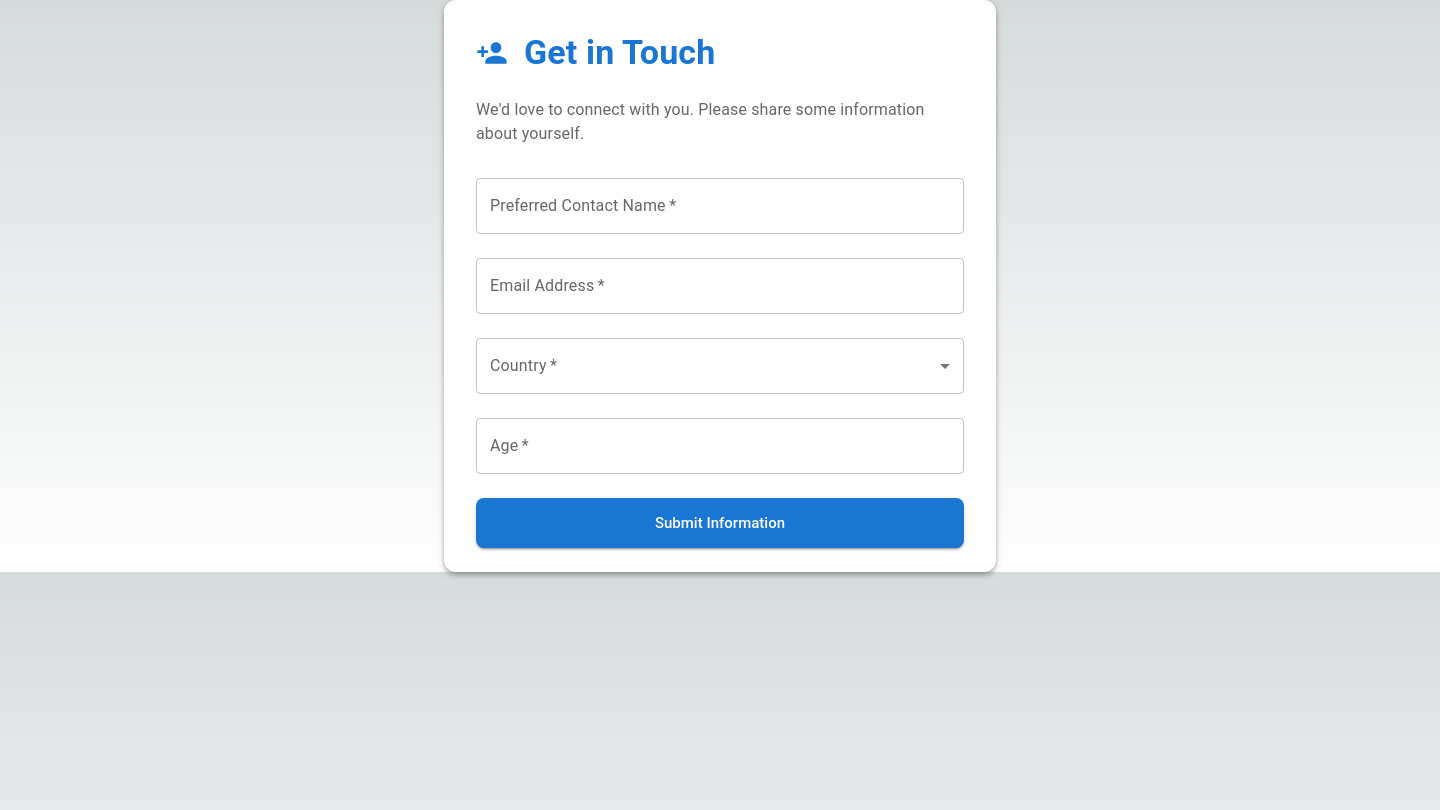
Test: VisitorForm › disables submit button while submitting
In the field labelled "Preferred Contact Name *": (720, 206) [476,178,964,234], type "John Doe"
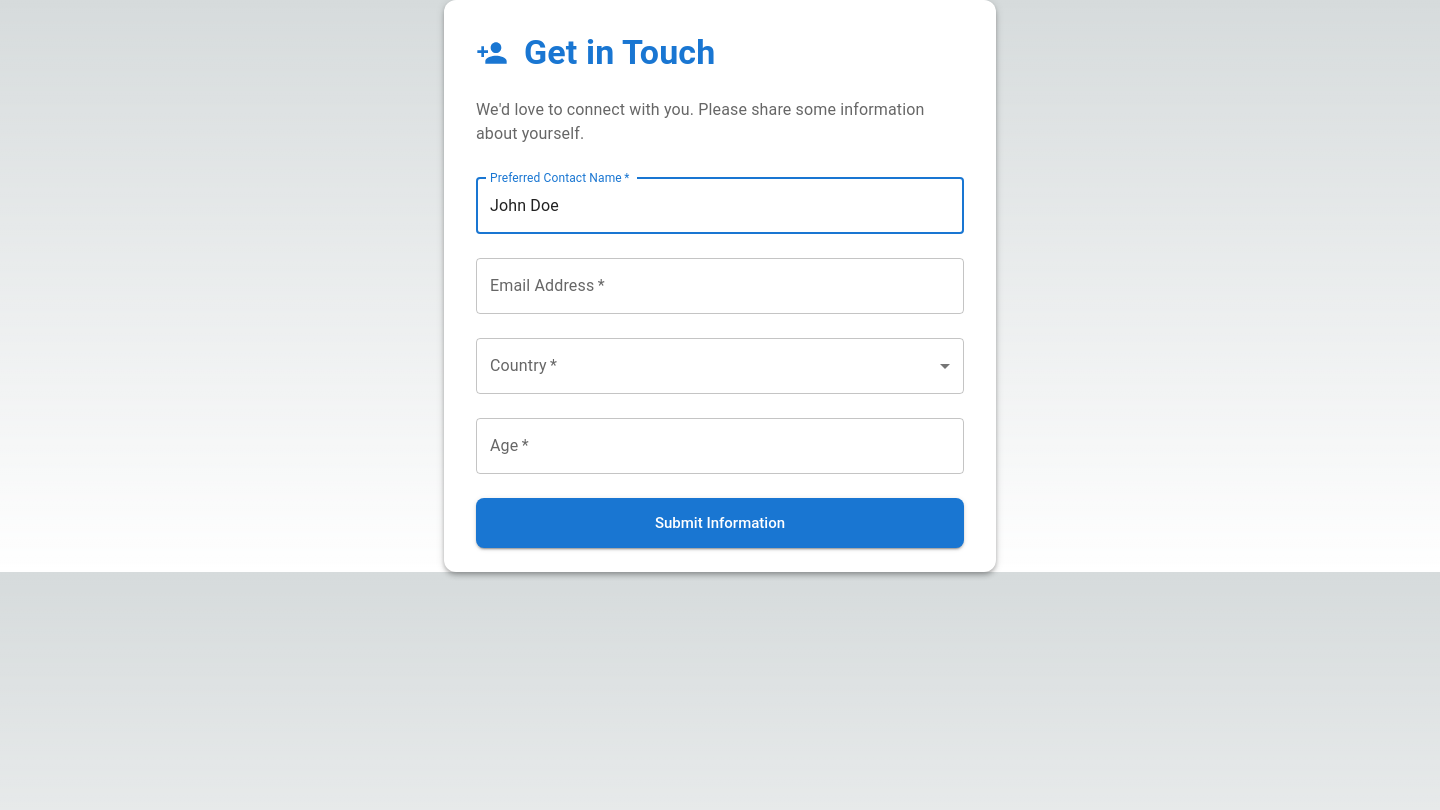
In the field labelled "Email Address *": (720, 286) [476,258,964,314], type "john@example.com"
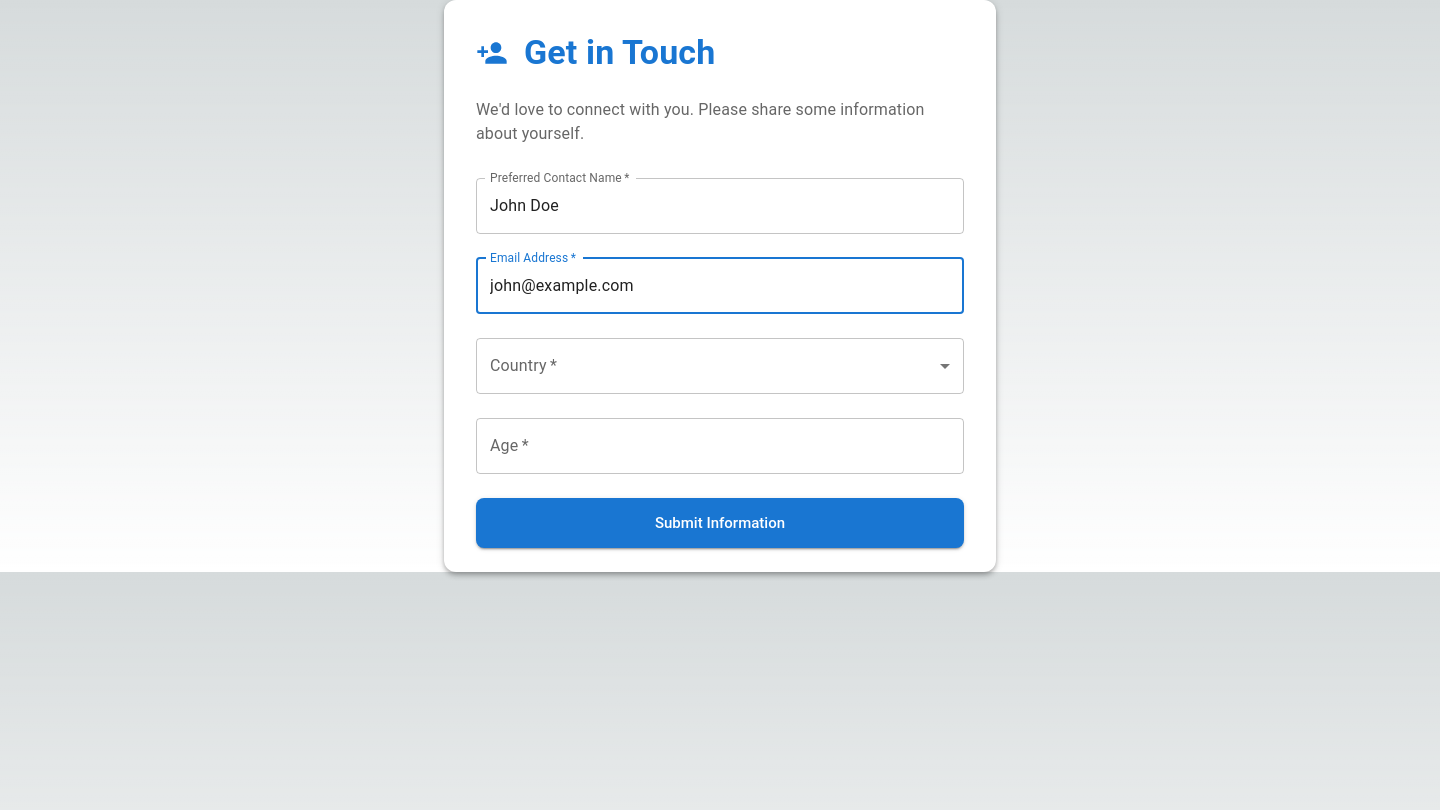
Click the dropdown named "country": (720, 366) [476,338,964,394]
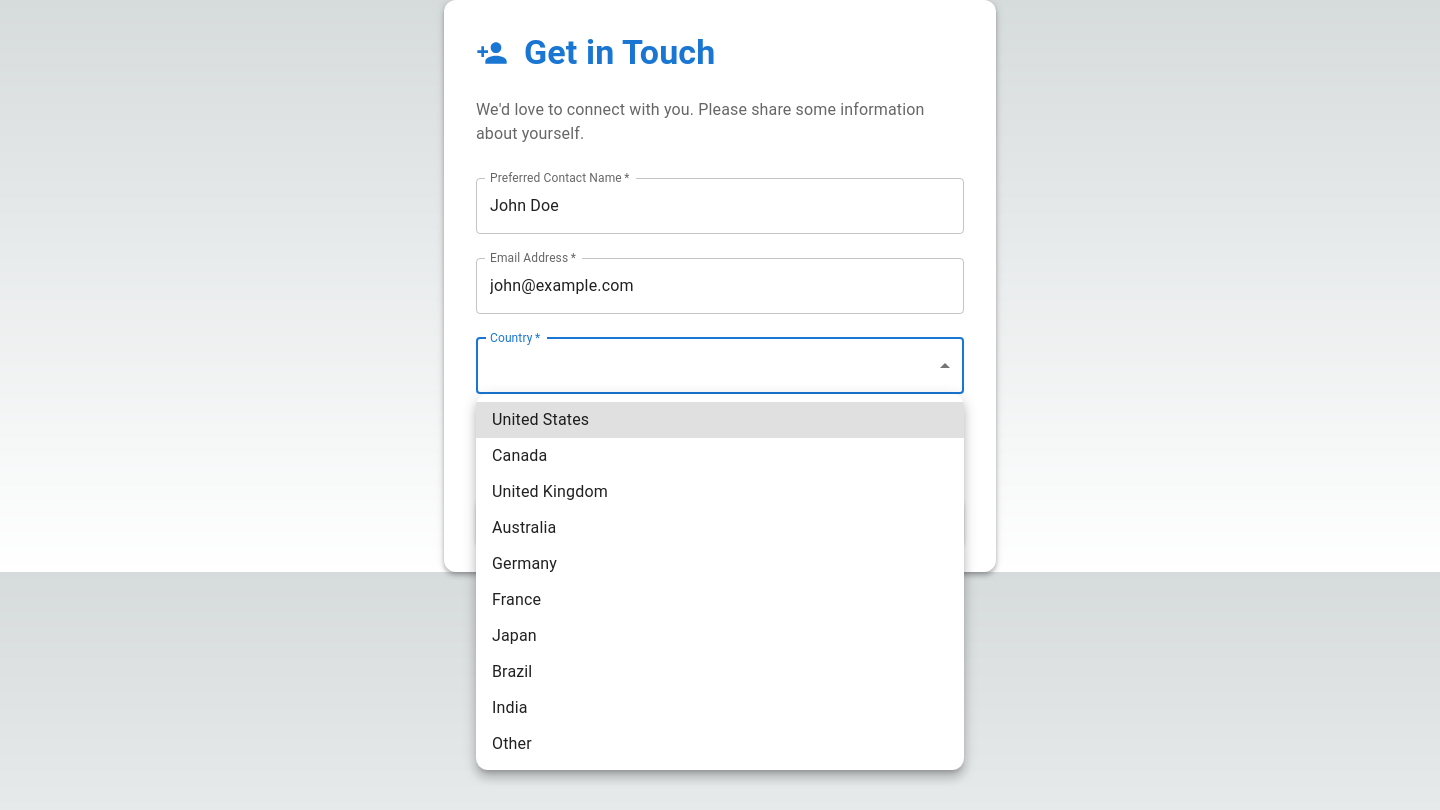
Click the option "United States": (541, 420) [476,402,964,438]
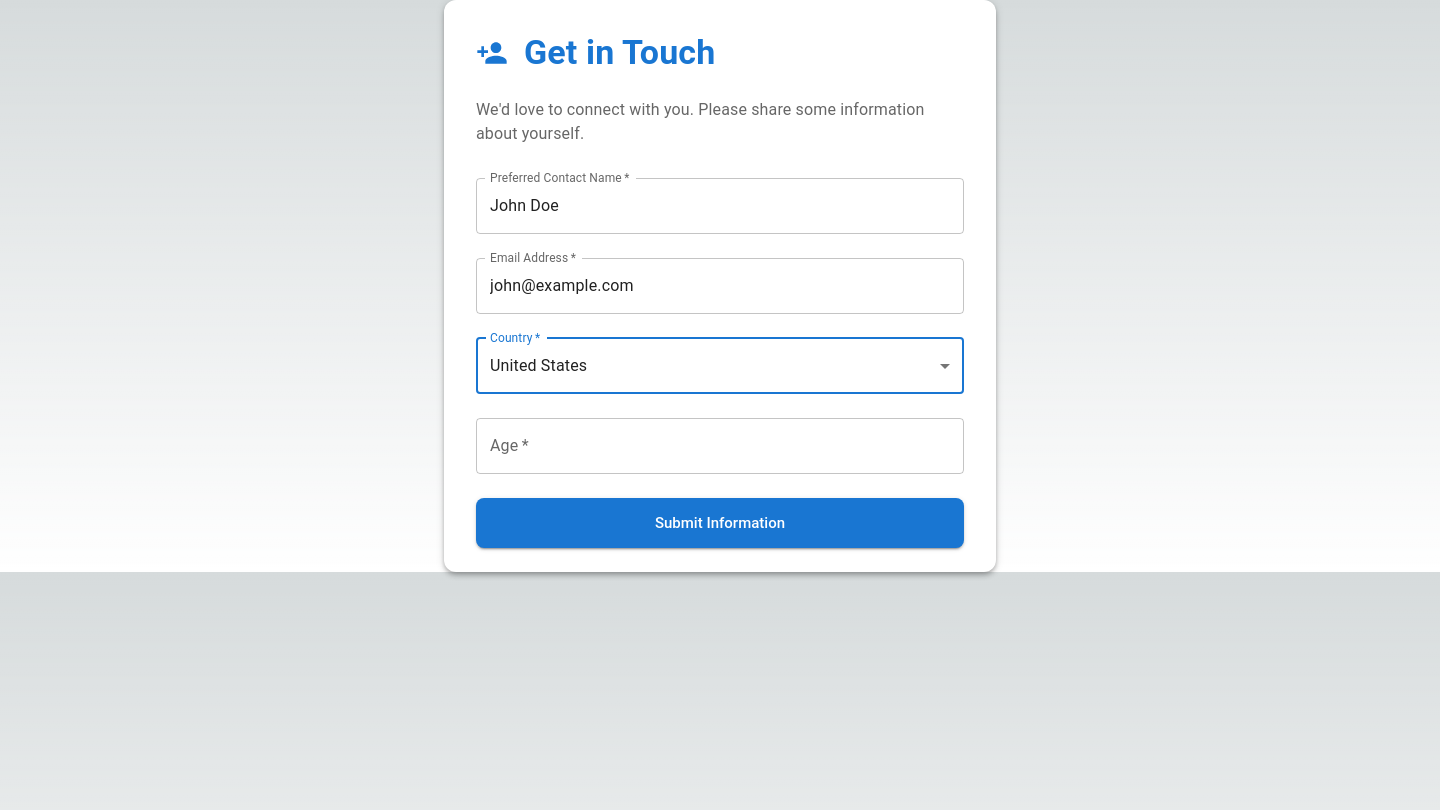
In the number field labelled "Age *": (720, 446) [476,418,964,474], type "30"
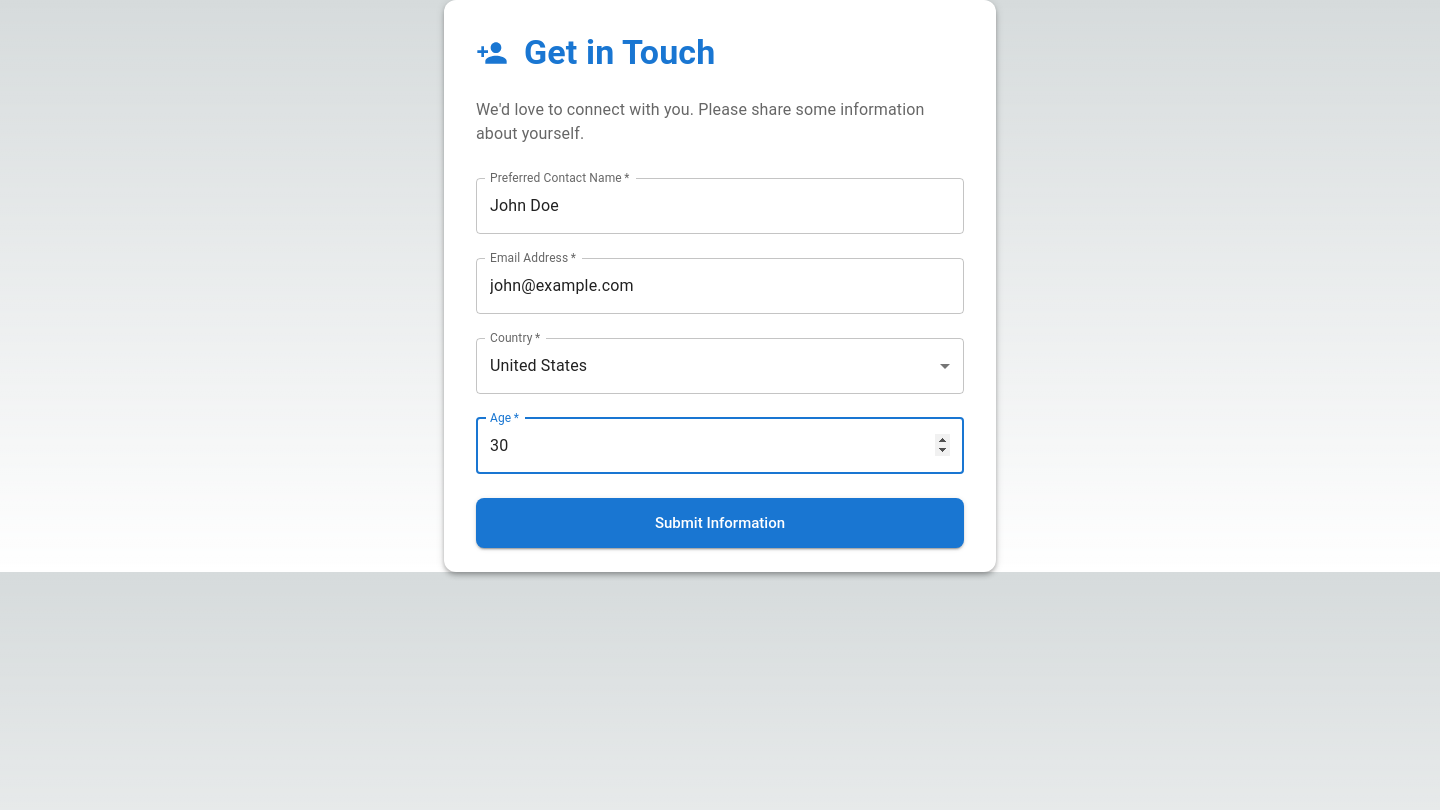
Click the button "Submit Information": (720, 523) [476,498,964,548]
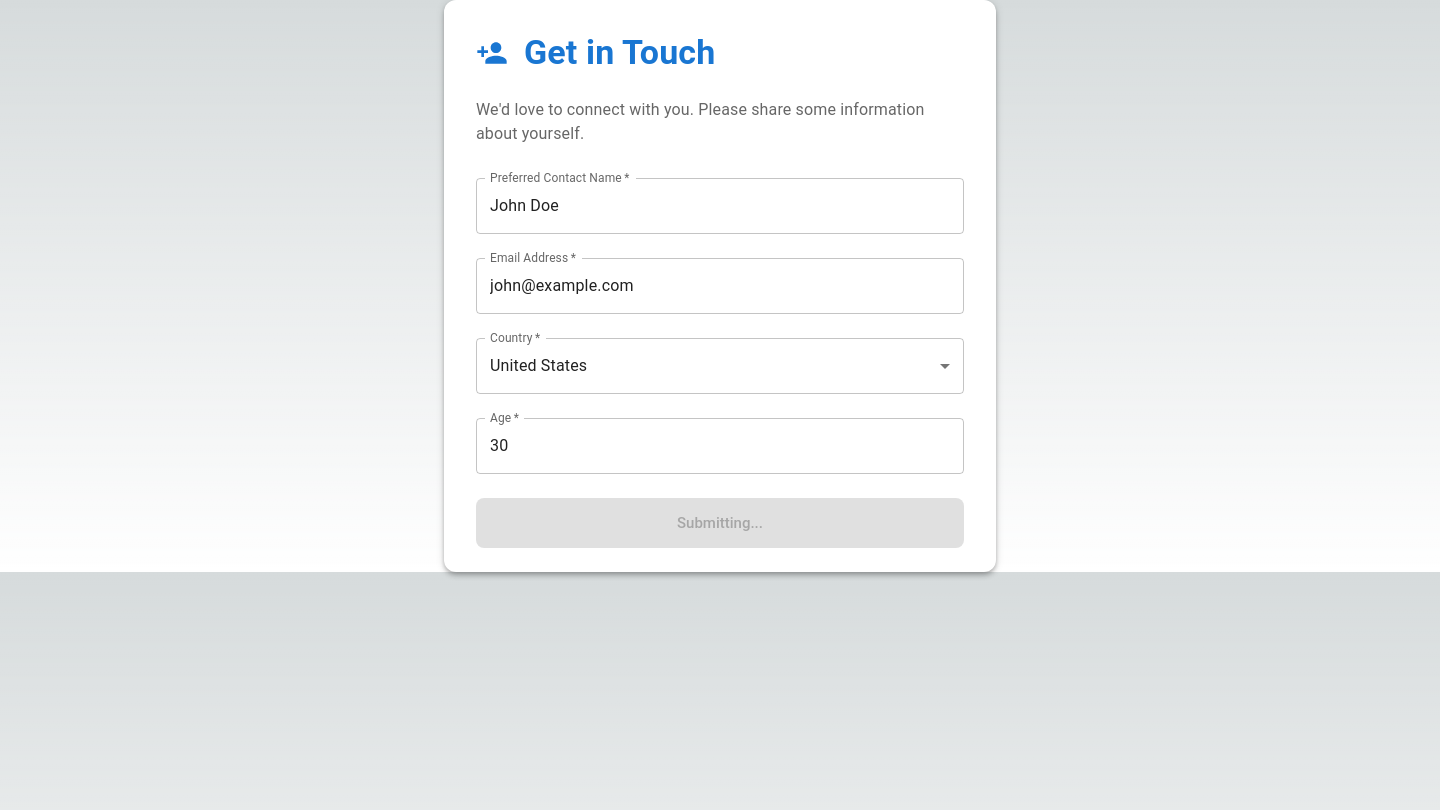
Check: the button "Submitting..." is disabled, box [476,498,964,548]
